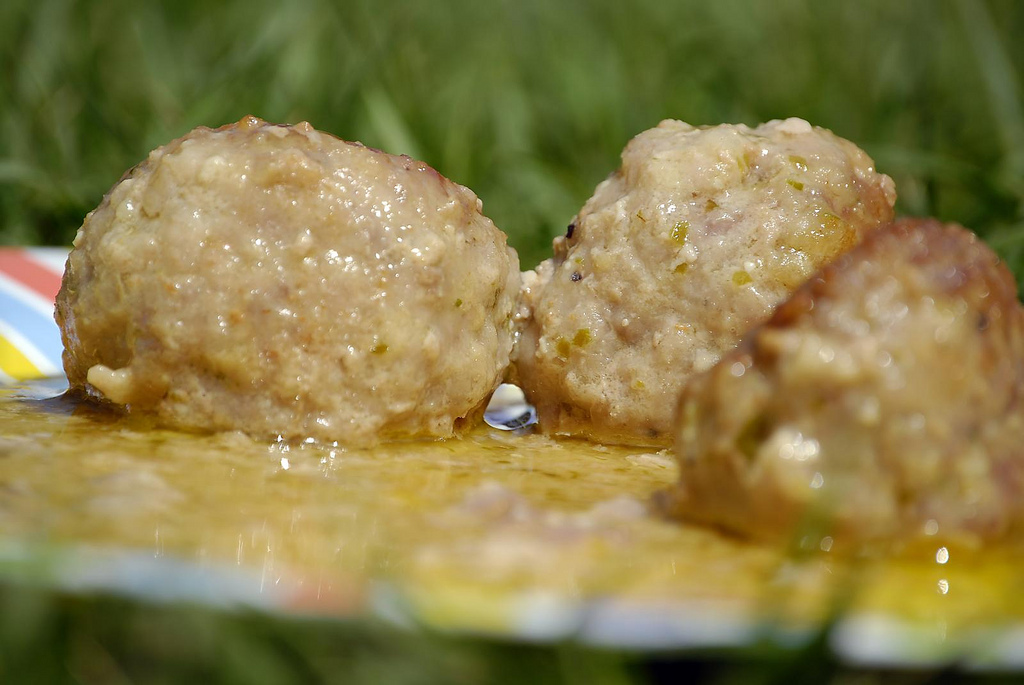meatballs: (583, 167, 960, 557), (99, 139, 491, 434)
